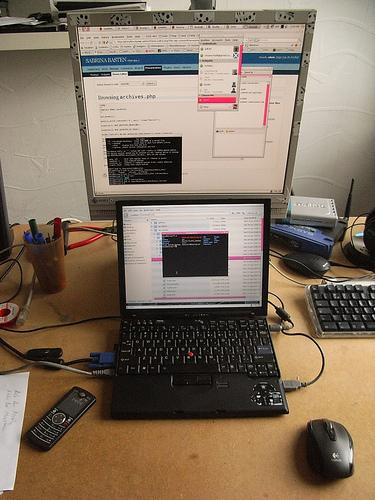cup: (26, 225, 65, 292)
